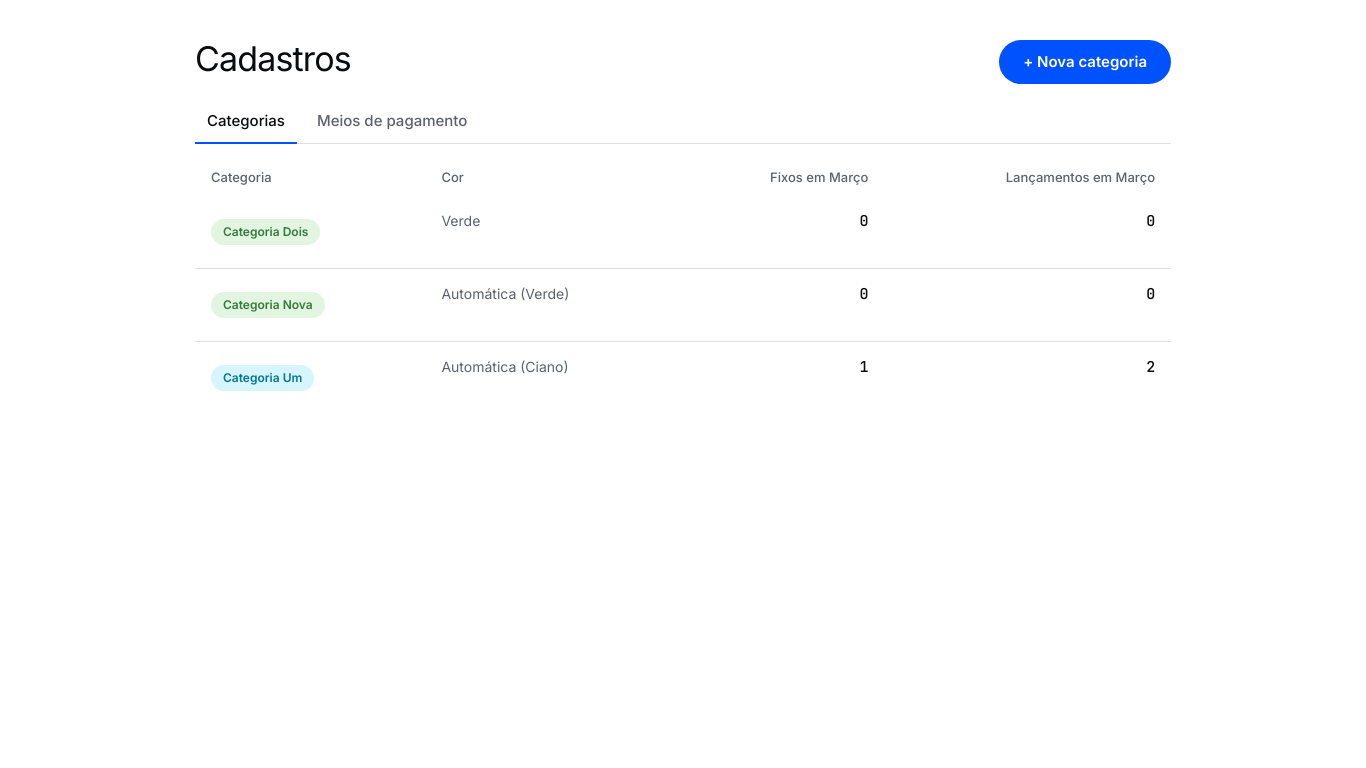
Test case: depois de criar (CADCOL-05, ACs 2 a 4; CADCOL-10, AC 2) › com a categoria na lista, abre nela, põe o id no endereço, leva o foco ao título e avisa
Click the button "+ Nova categoria".
click(1085, 62)  # box [999,40,1171,84]
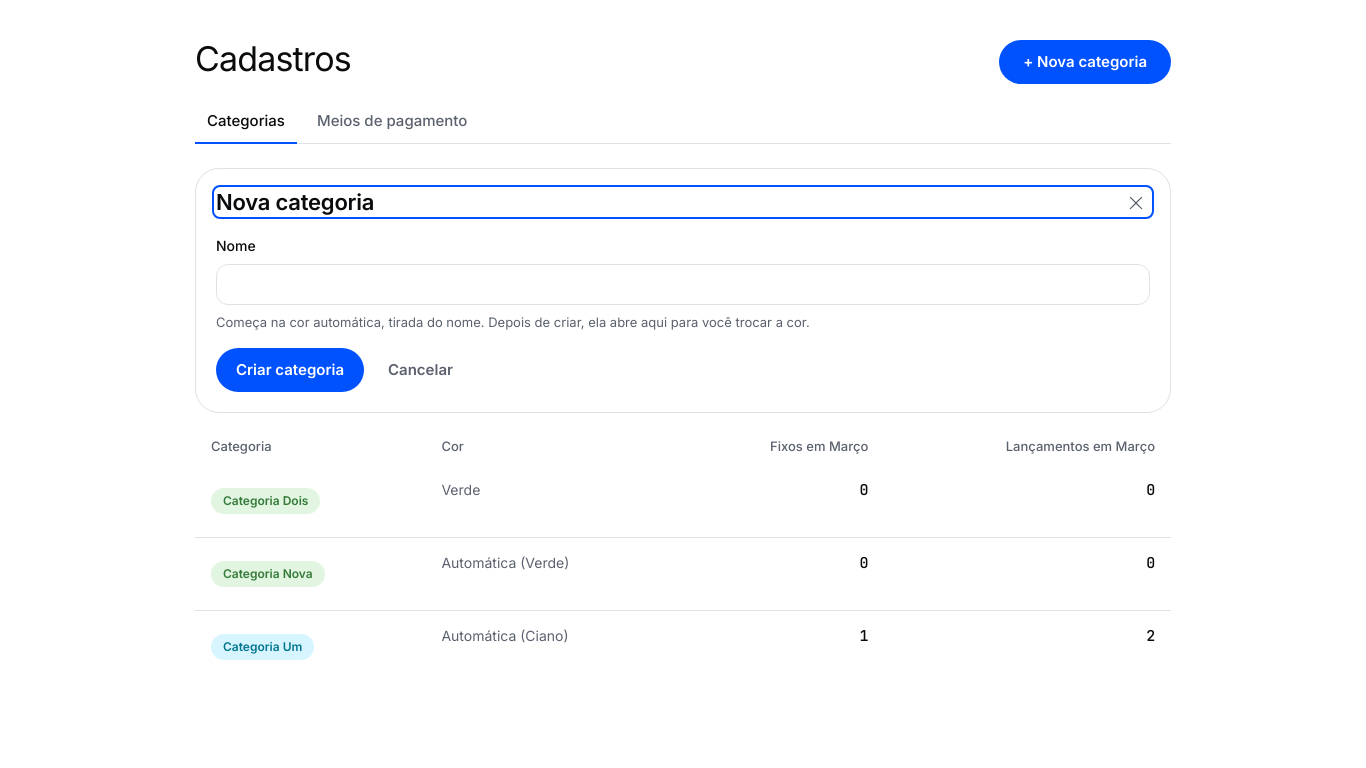
Type "Categoria Nova" into the field labelled "Nome".
click(683, 285); type("Categoria Nova")  # box [216,264,1150,305]
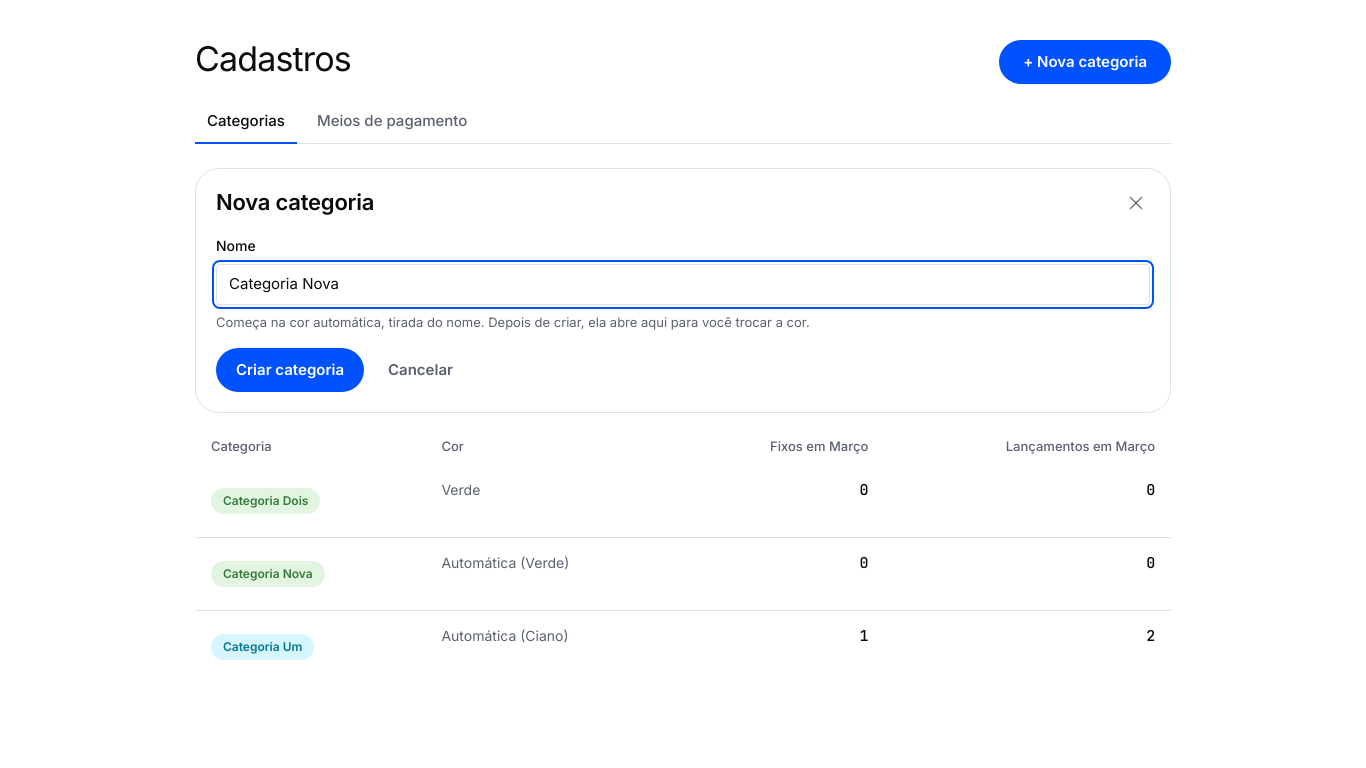
Click the button "Criar categoria".
click(290, 370)  # box [216,348,364,392]
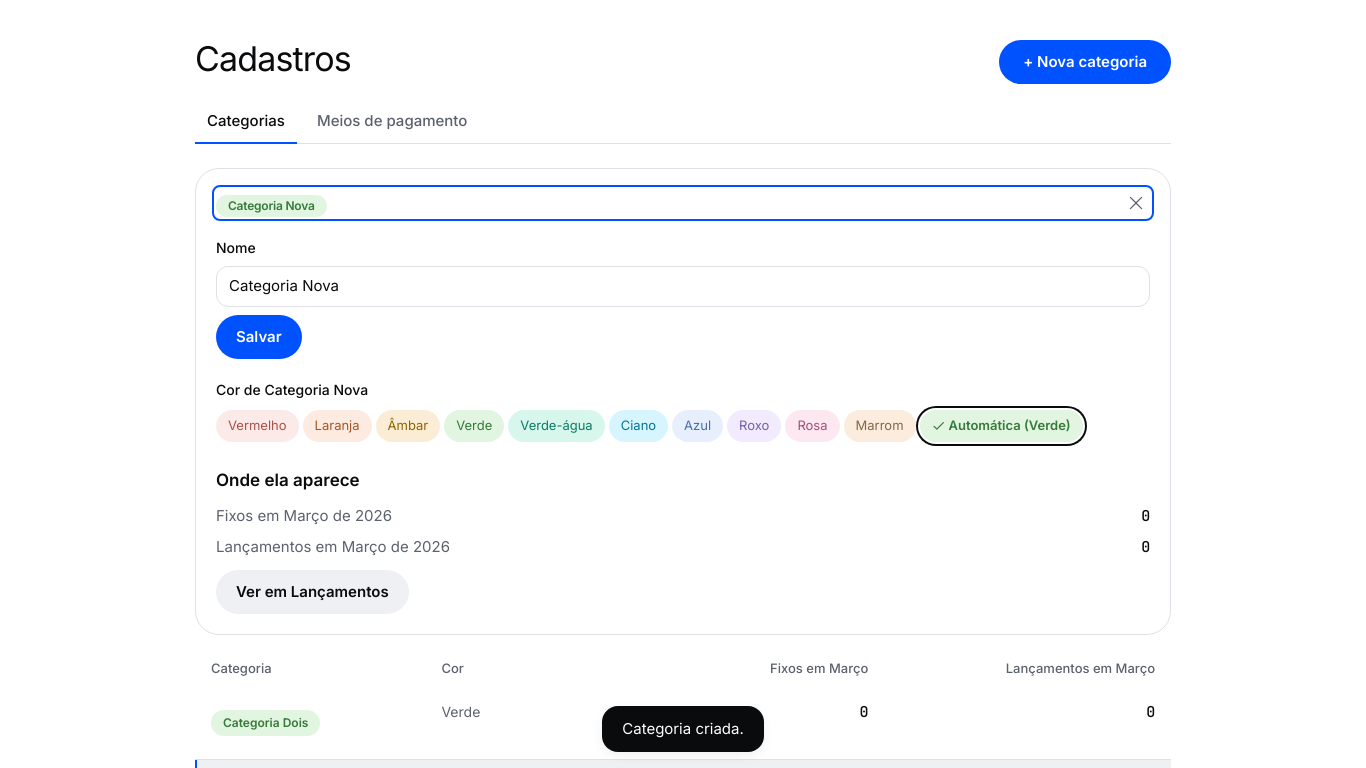
Result: the message reads "Categoria criada." at [622,718,744,738]
Result: the heading "Categoria Nova" is shown at [216,195,327,217]
